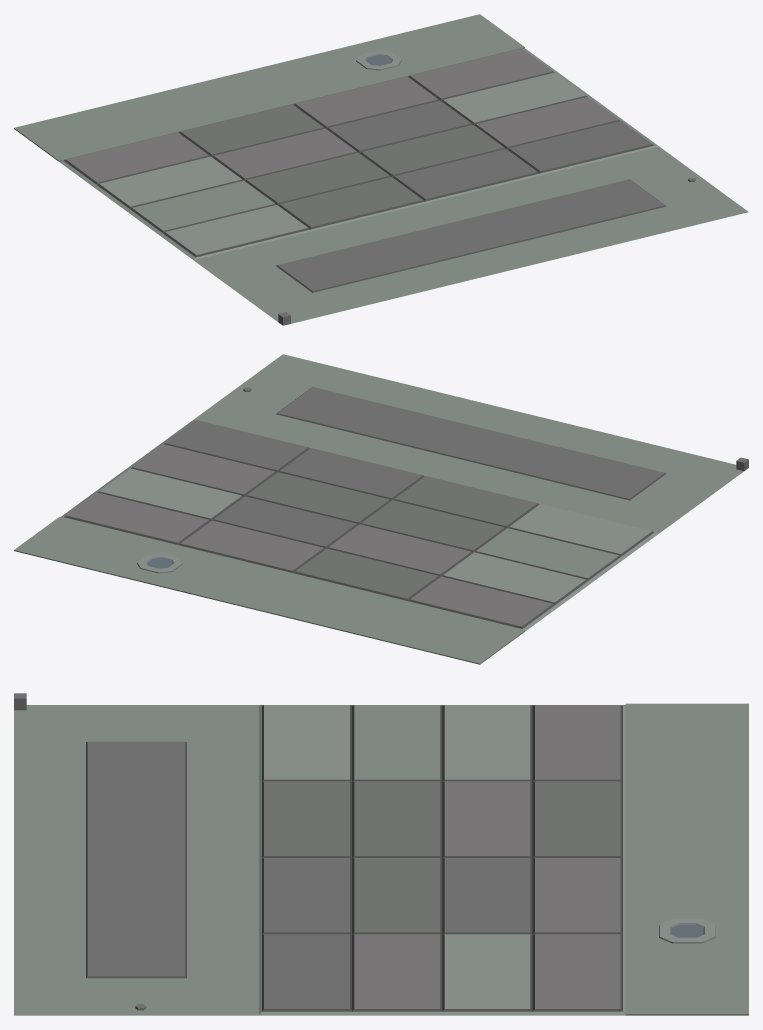
The model's file is OpenFork_C.gltf.
The picture shows the model from 3 angles, top to bottom: view 1: azimuth 30°, elevation 25°; view 2: azimuth 150°, elevation 25°; view 3: azimuth 270°, elevation 25°; orthographic projection. The views are drawn at different scales.
Visible parts, largest first — view 1: Scifi_Panel_02 Plaza014_group4.032; view 2: Scifi_Panel_02 Plaza014_group4.032; view 3: Scifi_Panel_02 Plaza014_group4.032.
Boxes of the visible parts, <box> form: Scifi_Panel_02 Plaza014_group4.032: <box>14,14,748,325</box>; Scifi_Panel_02 Plaza014_group4.032: <box>14,354,748,664</box>; Scifi_Panel_02 Plaza014_group4.032: <box>14,693,748,1015</box>.
Bounding box in the file's own units: 10 × 0.1734 × 10.
1 material, 1 textured.
